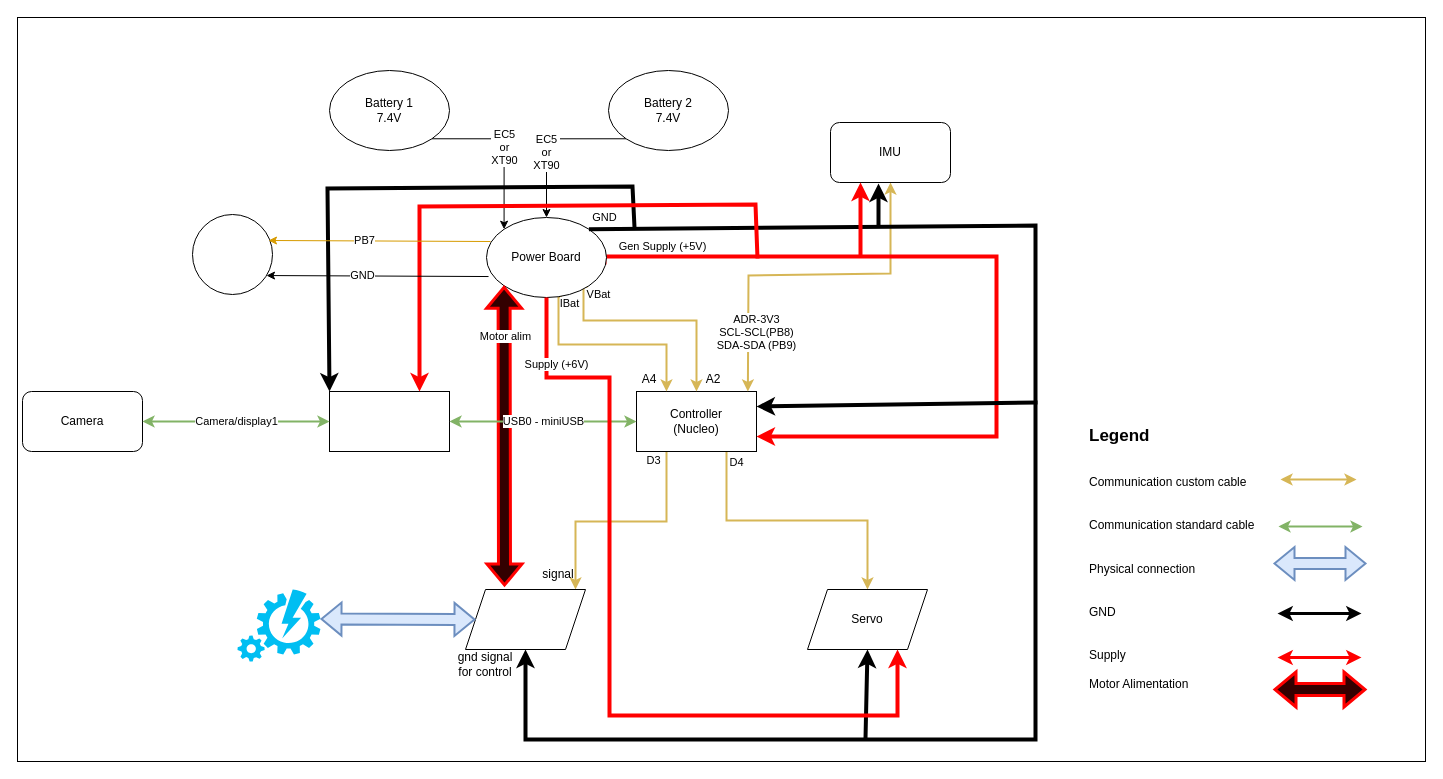
This 1443x779 diagram has some shape labels left out. The centre of each missing label's shape, as x and y in pixels:
"Brain (Raspbery pi)" goes at [389,421].
"Buzzer For Bat Warning" goes at [232,254].
"Motor" goes at [525,619].
